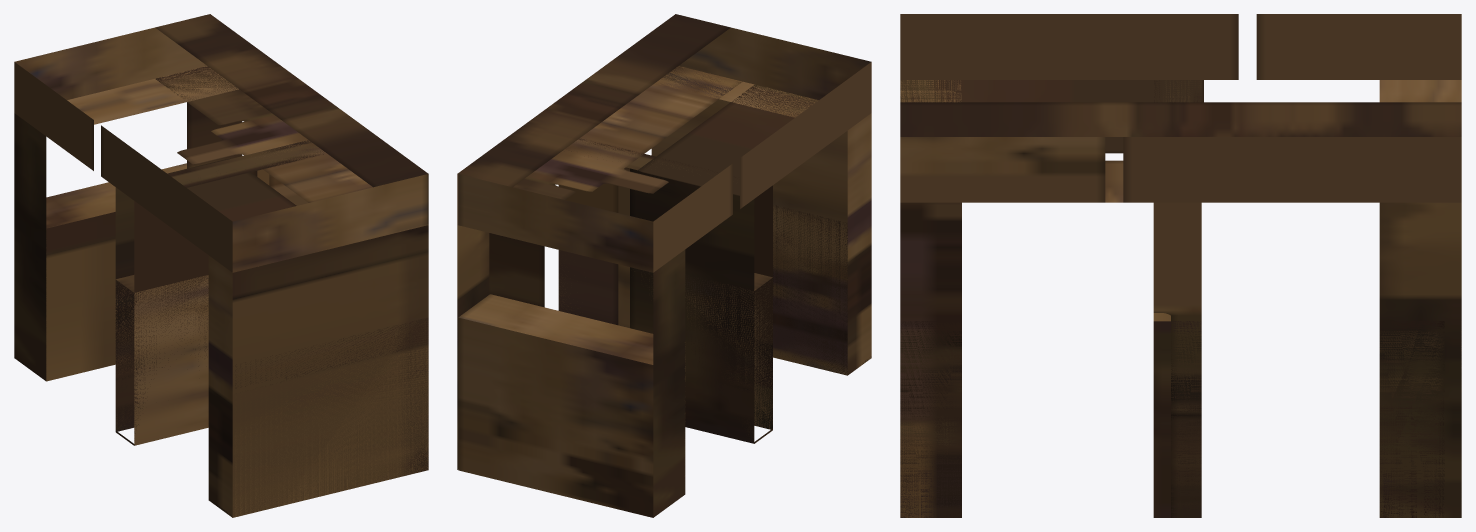
File: section-2.obj
3 views of the same model, side by side, from view 1: azimuth 30°, elevation 25°; view 2: azimuth 150°, elevation 25°; view 3: azimuth 270°, elevation 25° (orthographic). The views are drawn at different scales.
Bounding box in the file's own units: 0.3912 × 0.5656 × 0.7552.
